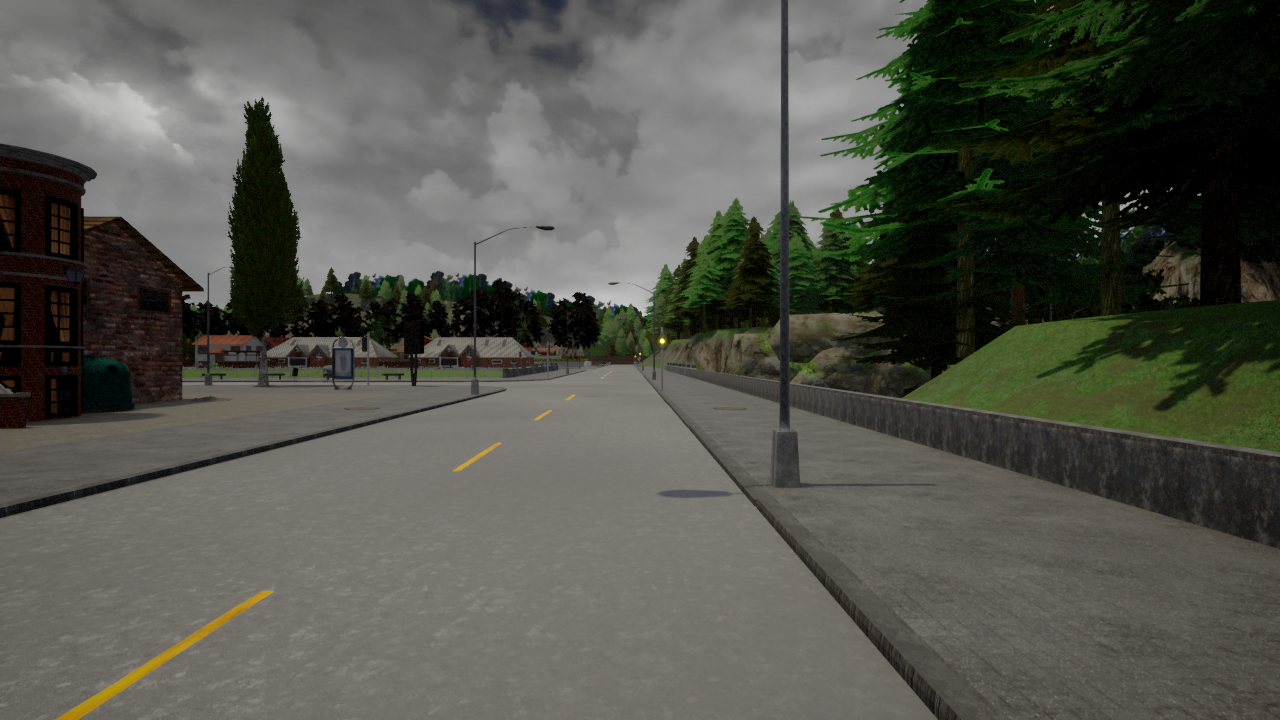yellow: (658, 332, 666, 349)
